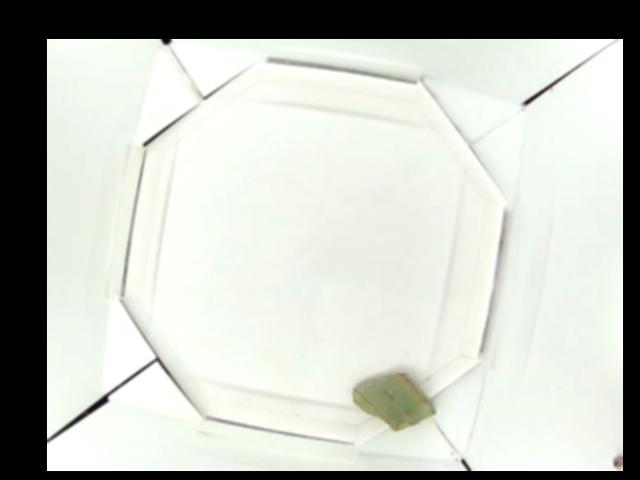China: (354, 368, 441, 432)
